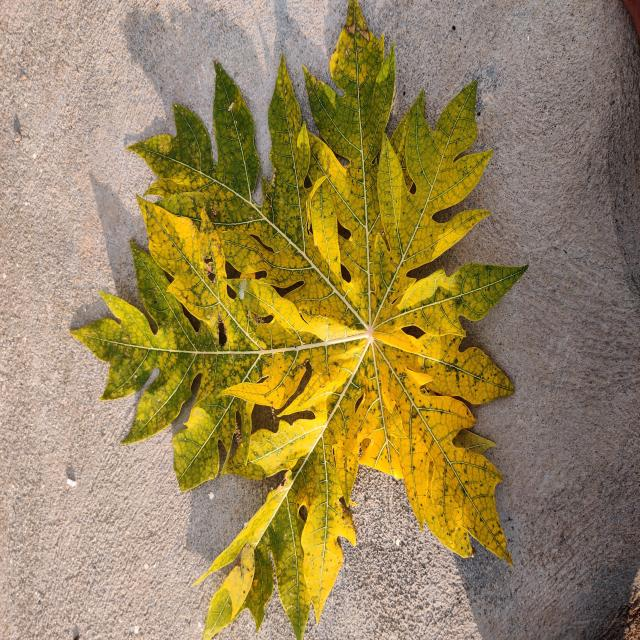fasiation: (74, 2, 525, 637)
